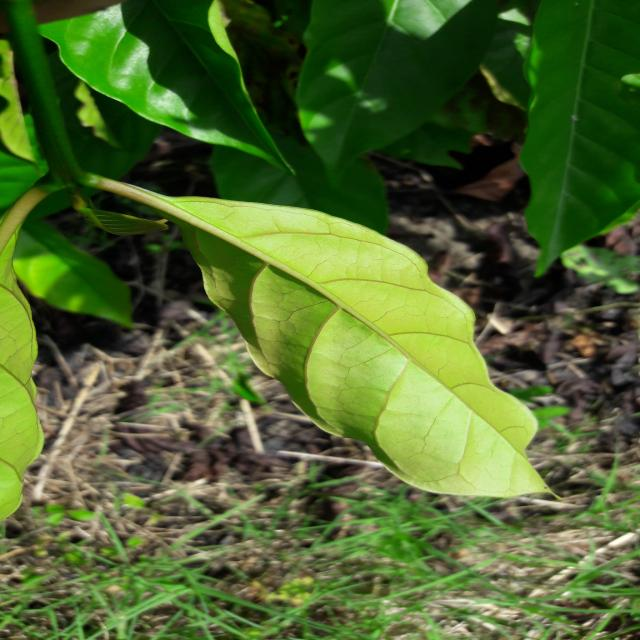Sanas: (113, 185, 554, 502)
